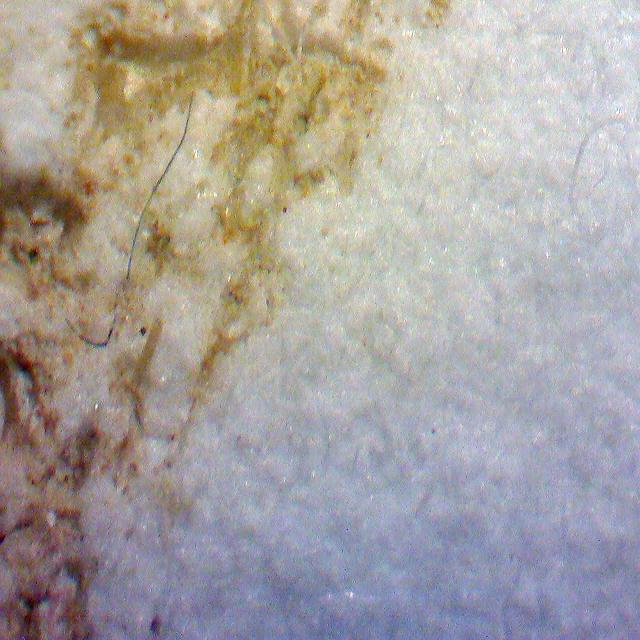microplastic: (127, 89, 194, 279)
